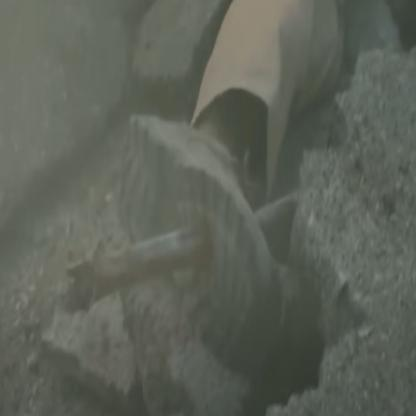hand: (115, 0, 310, 368)
